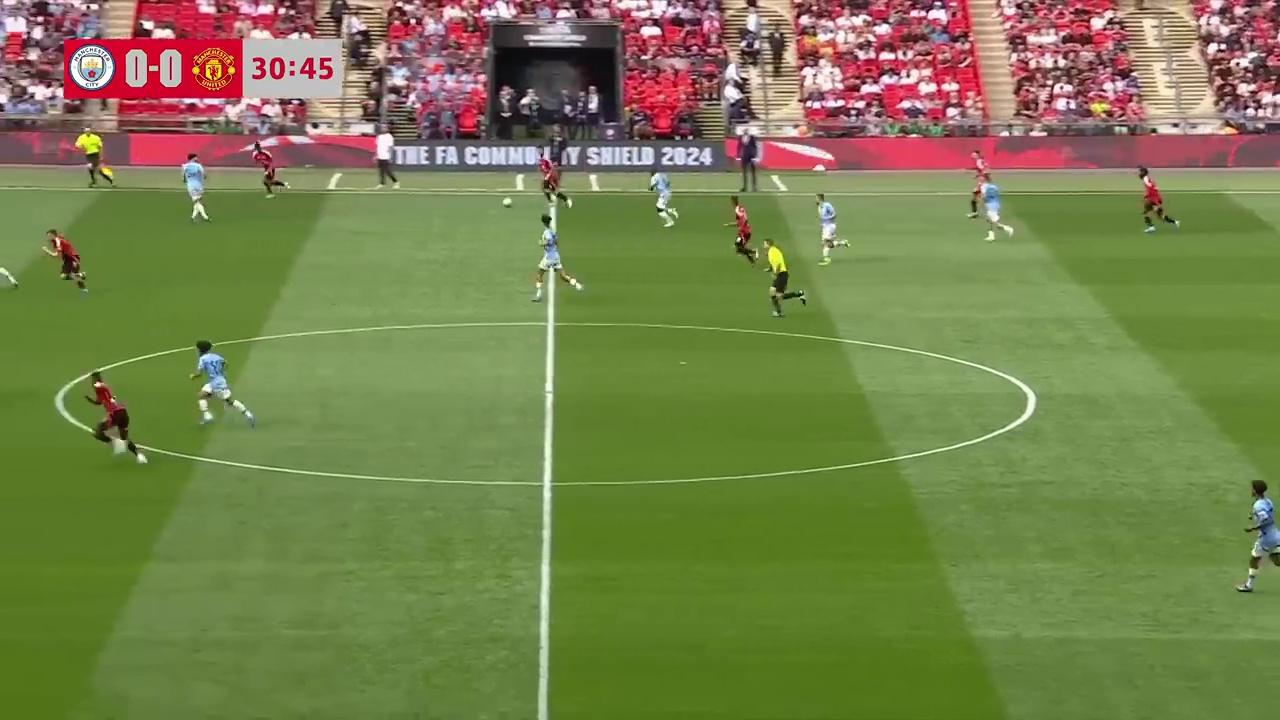ball: (502, 194, 512, 208)
player: (188, 340, 256, 428), (85, 372, 145, 459), (1236, 480, 1280, 594), (531, 214, 576, 300), (41, 227, 88, 293), (1140, 170, 1179, 233), (723, 194, 758, 264), (982, 173, 1013, 240), (182, 152, 210, 222), (538, 152, 571, 209), (816, 193, 842, 263), (647, 169, 677, 226), (260, 148, 289, 197), (966, 160, 987, 219), (0, 235, 18, 291)
referee: (763, 238, 807, 317), (78, 124, 113, 187)
